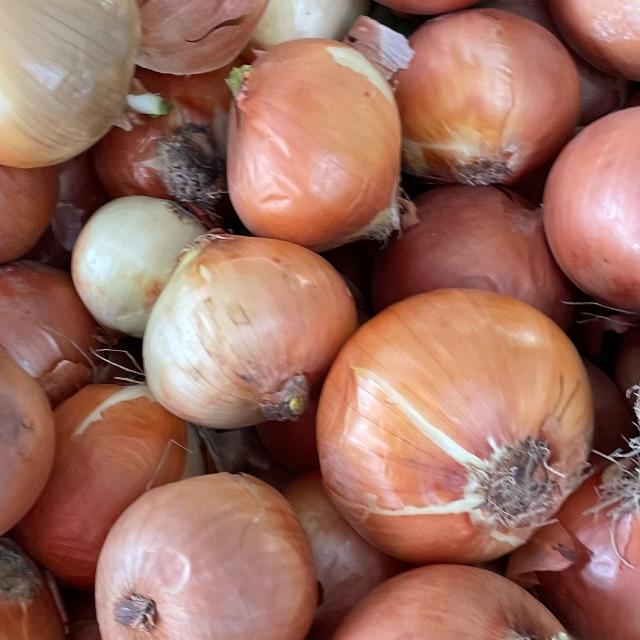onion: (72, 442, 320, 640), (0, 0, 162, 180), (297, 552, 625, 640), (542, 90, 640, 295), (0, 312, 50, 590)
